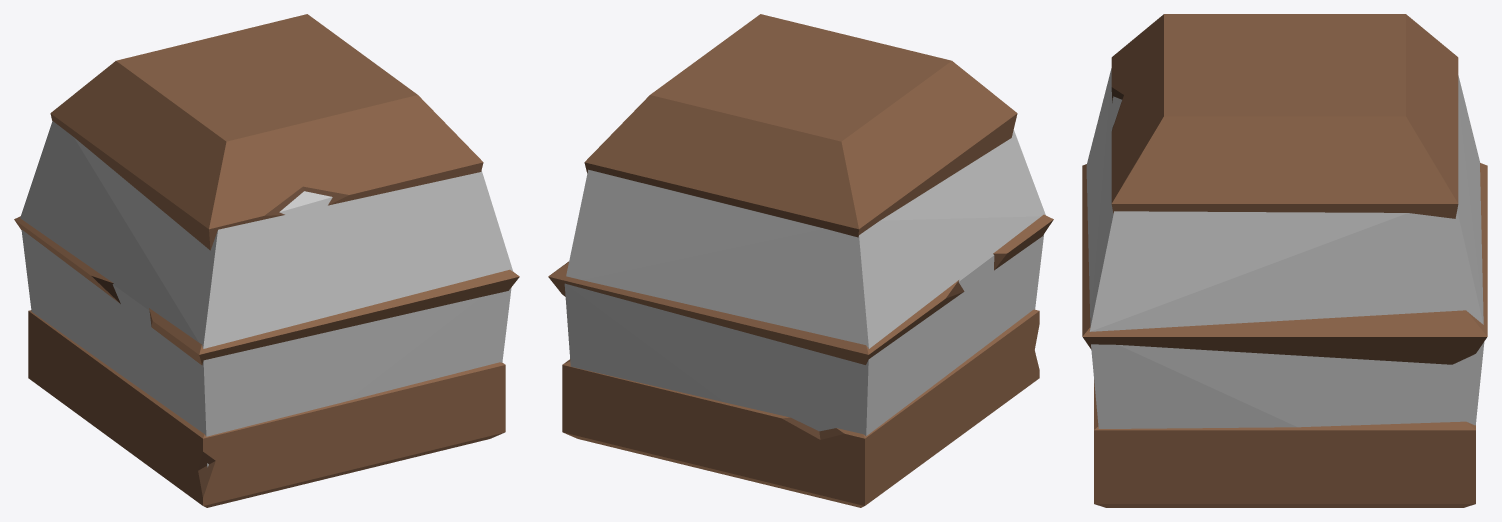
File: SM_Bld_Wall_Trim_End_A_01.fbx
3 views of the same model, side by side, from view 1: azimuth 30°, elevation 25°; view 2: azimuth 150°, elevation 25°; view 3: azimuth 270°, elevation 25° (orthographic). The views are drawn at different scales.
Parts seen in each view (by area): view 1: SM_Bld_Wall_Trim_End_A_01, SM_Bld_Wall_Trim_End_A_01_ConvexHulls; view 2: SM_Bld_Wall_Trim_End_A_01, SM_Bld_Wall_Trim_End_A_01_ConvexHulls; view 3: SM_Bld_Wall_Trim_End_A_01, SM_Bld_Wall_Trim_End_A_01_ConvexHulls.
Boxes of the visible parts, x1,y1,x2,y2 form: SM_Bld_Wall_Trim_End_A_01: [14, 14, 519, 507]; SM_Bld_Wall_Trim_End_A_01_ConvexHulls: [20, 121, 513, 467]; SM_Bld_Wall_Trim_End_A_01: [548, 14, 1053, 507]; SM_Bld_Wall_Trim_End_A_01_ConvexHulls: [564, 130, 1045, 435]; SM_Bld_Wall_Trim_End_A_01: [1082, 14, 1487, 507]; SM_Bld_Wall_Trim_End_A_01_ConvexHulls: [1086, 68, 1484, 428].
Size of the model in its own units: 64.61 by 64.61 by 64.64.
2 materials, 1 textured.
